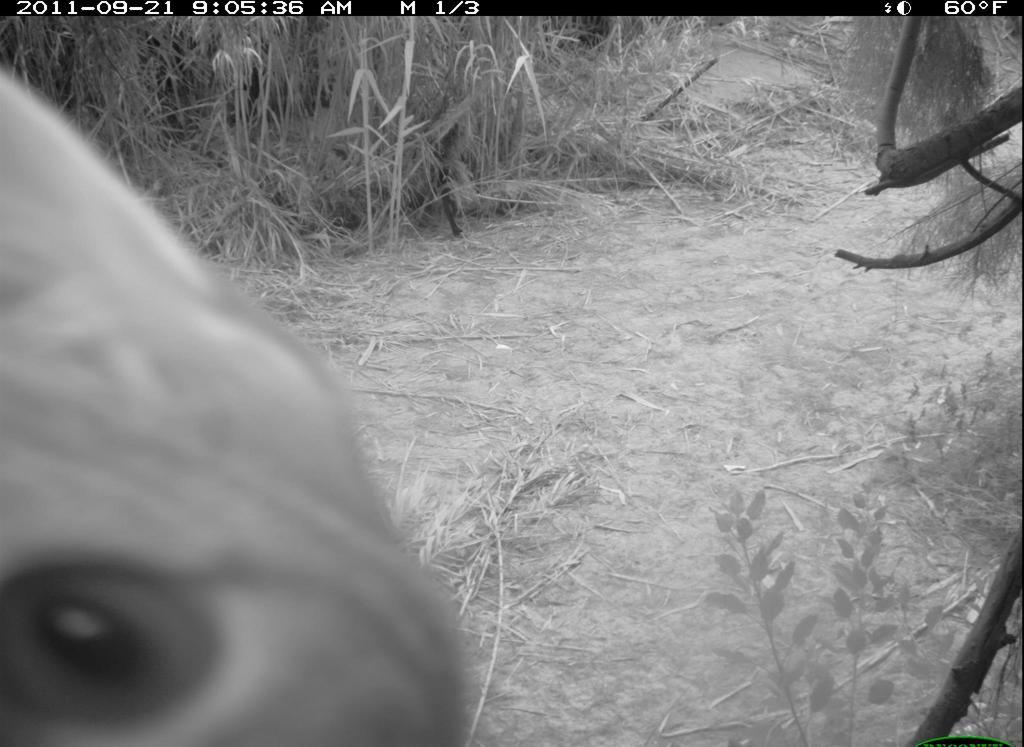bobcat: (3, 63, 491, 747)
